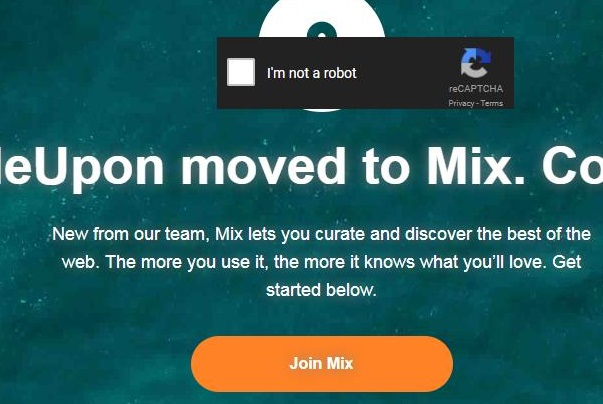captcha: (226, 57, 357, 87)
